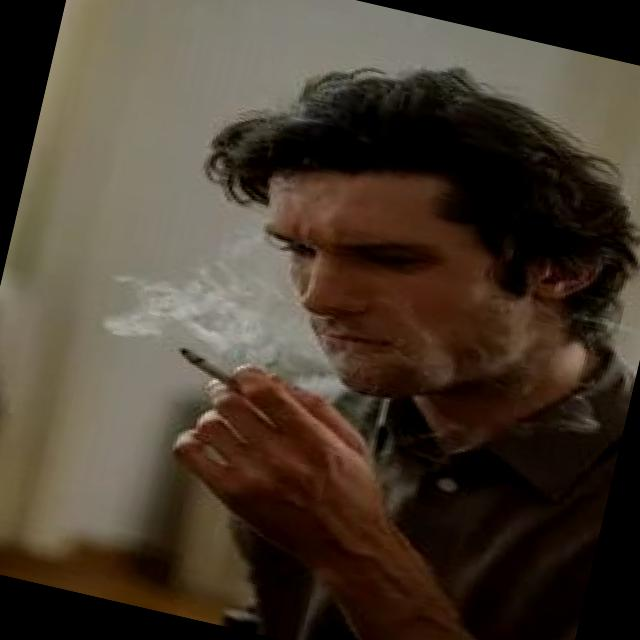cigarette: (169, 340, 254, 398)
